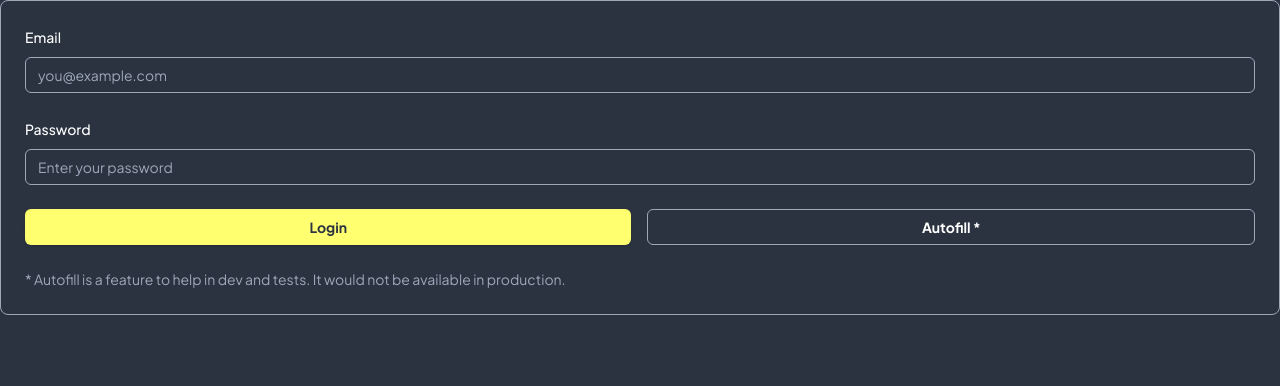
Test case: LoginForm › removes validation errors when fields become valid
The width and height of the screenshot is (1280, 386).
Submit to show initial errors
Click the button "Login" at [328, 227], box left=25, top=209, right=632, bottom=245
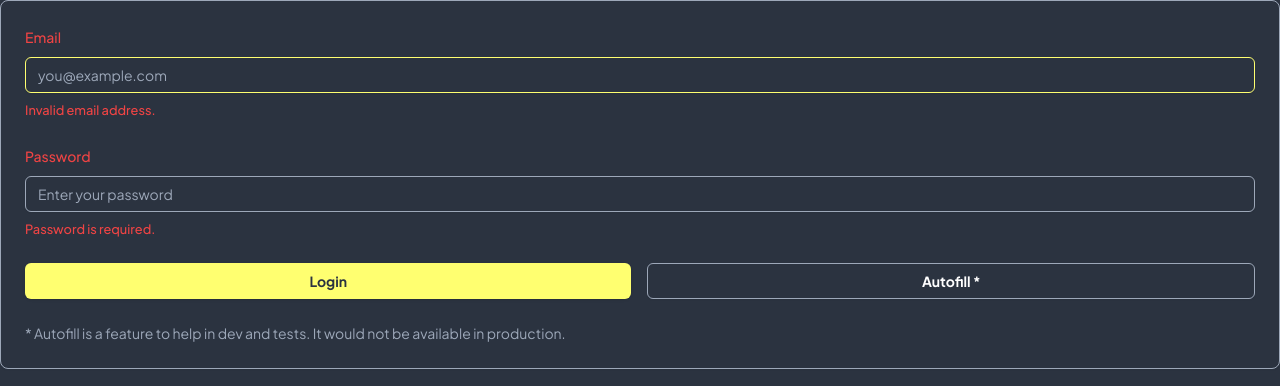
Expected: the text "Invalid email address." is shown, left=25, top=102, right=156, bottom=118
Expected: the text "Password is required." is shown, left=25, top=221, right=155, bottom=237
Type valid values
Type "test@example.com" into the field labelled "Email" at [640, 75], box left=25, top=57, right=1255, bottom=93
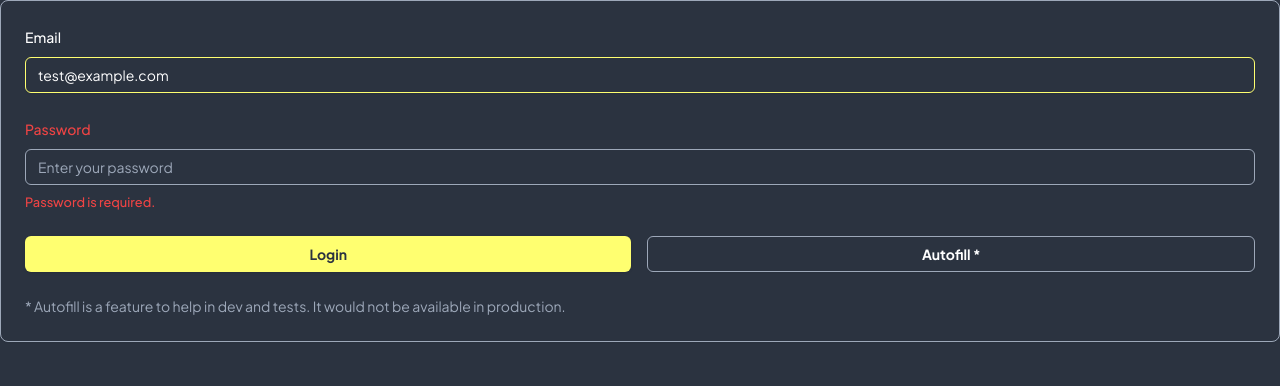
Type "validpassword" into the password field labelled "Password" at [640, 167], box left=25, top=149, right=1255, bottom=185
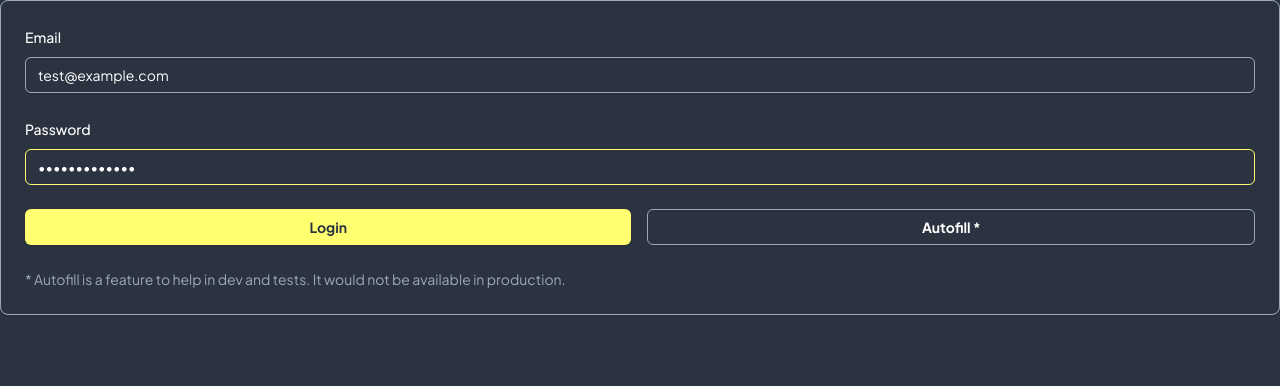
Expected: the text "Invalid email address." is not shown
Expected: the text "Password is required." is gone
